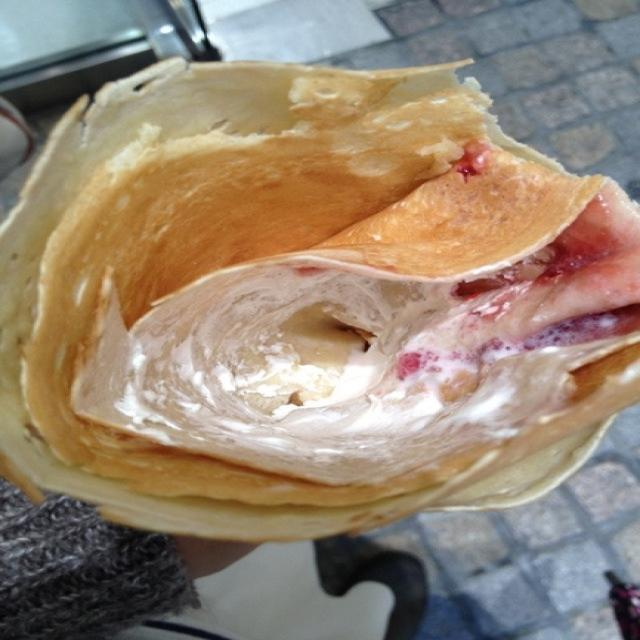面条主食: (61, 0, 620, 640)
